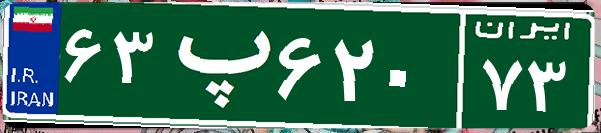0: (385, 28, 445, 110)
2: (330, 28, 385, 110)
3: (110, 28, 158, 105), (525, 38, 570, 115)
6: (273, 28, 330, 110), (57, 26, 110, 107)
7: (475, 38, 525, 113)
پ: (158, 15, 273, 115)
